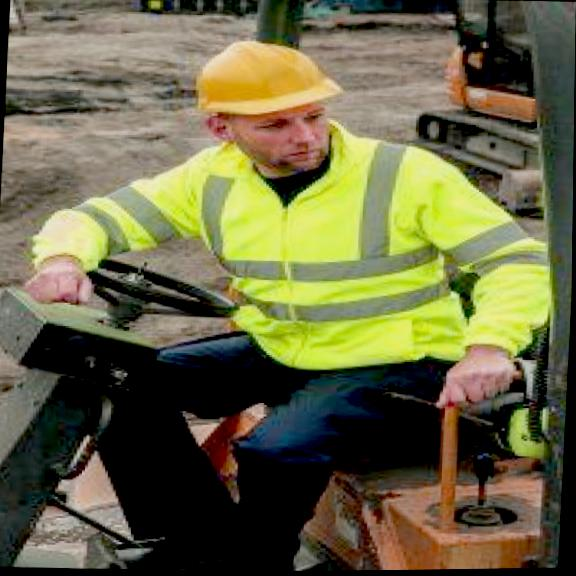safety_vest: (166, 137, 504, 391)
